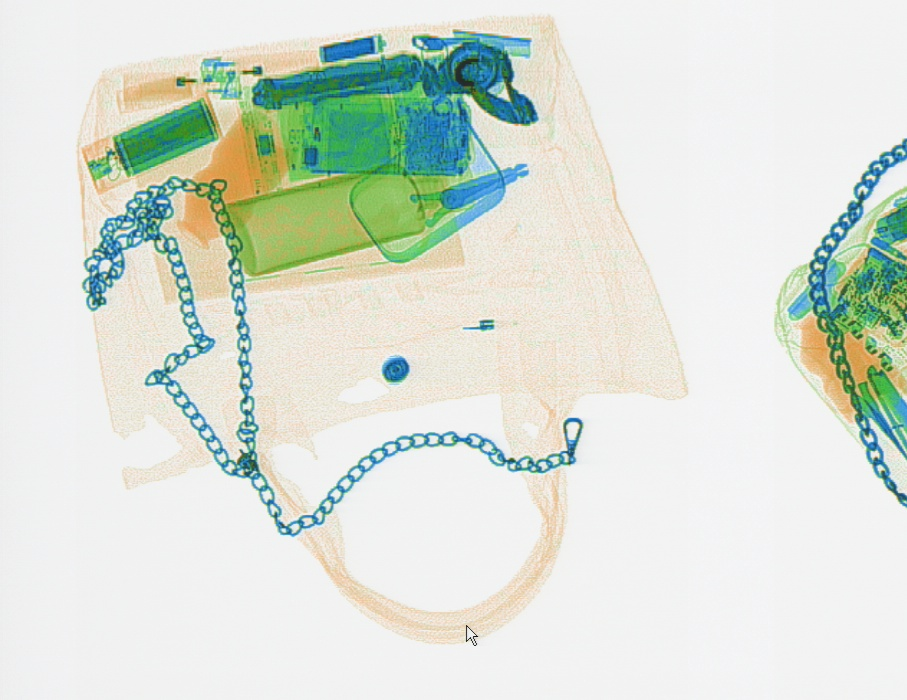knife: (248, 50, 426, 111)
lighter: (112, 52, 228, 115), (121, 63, 242, 115), (198, 43, 330, 86)
scissors: (351, 162, 533, 266), (841, 376, 904, 459)
